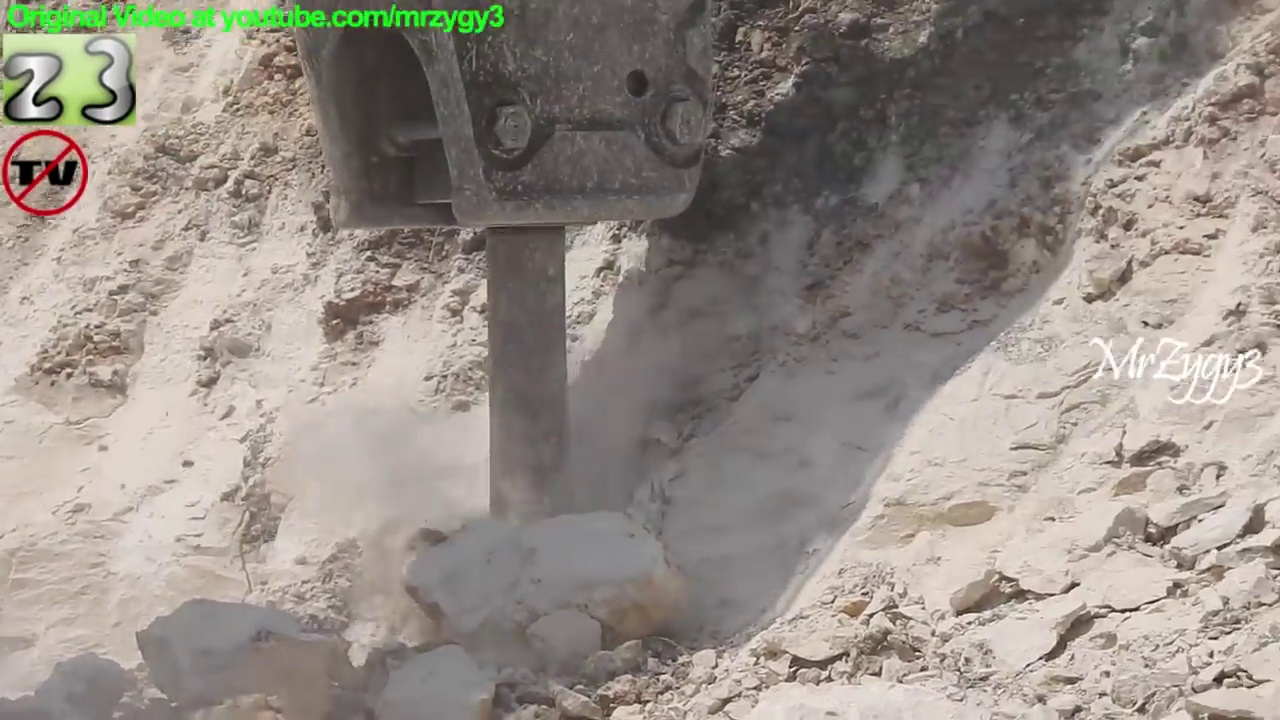excavator: (272, 1, 744, 576)
